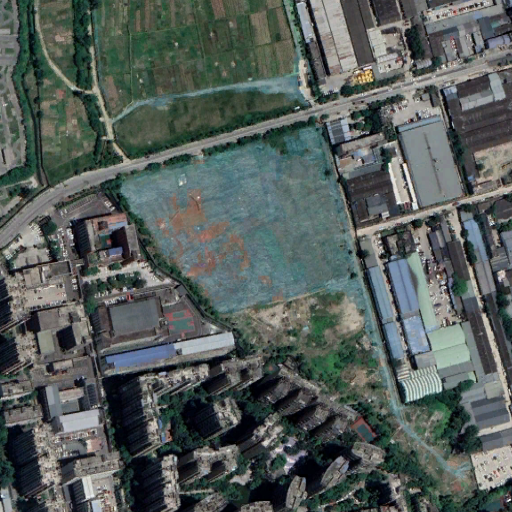cw: (111, 128, 359, 313)
